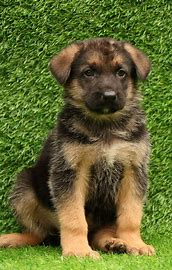dog: (16, 37, 163, 260)
